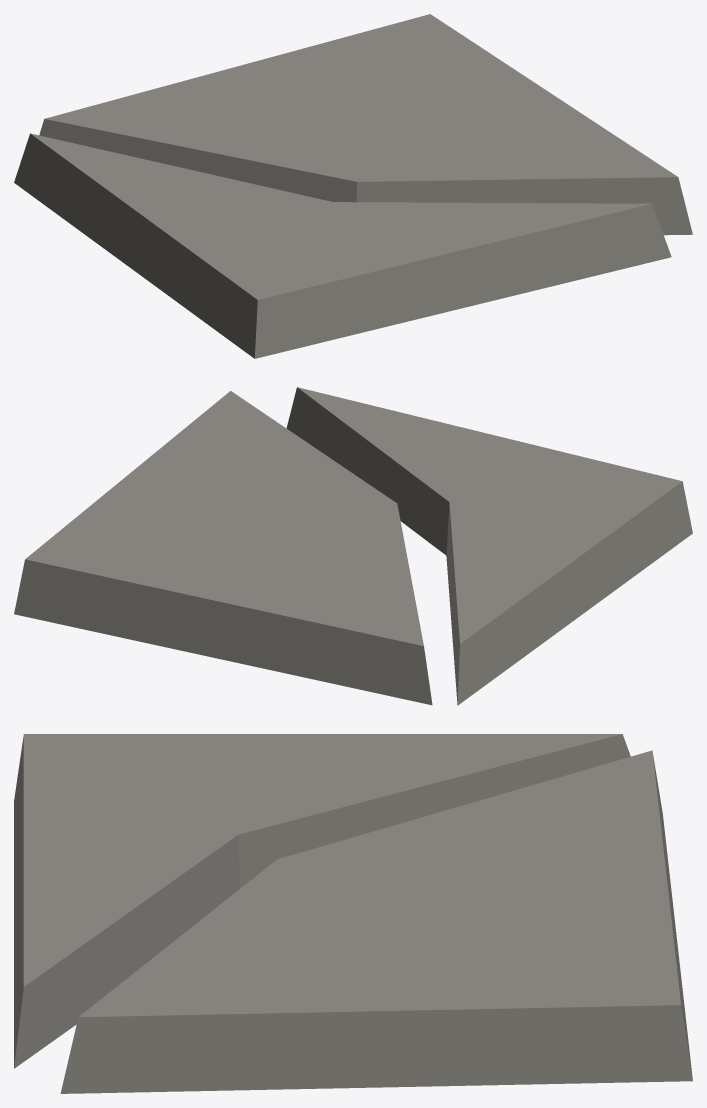
Rendered from Rock_Tile_crk_m_07.fbx.
The picture shows the model from 3 angles, top to bottom: view 1: azimuth 30°, elevation 25°; view 2: azimuth 150°, elevation 25°; view 3: azimuth 270°, elevation 25°; orthographic projection. The views are drawn at different scales.
Visible parts, largest first — view 1: Rock_Tile_crk_m_07; view 2: Rock_Tile_crk_m_07; view 3: Rock_Tile_crk_m_07.
Part boxes in pixels (x1,y1,x2,y2): Rock_Tile_crk_m_07: (14, 14, 692, 358); Rock_Tile_crk_m_07: (14, 387, 692, 705); Rock_Tile_crk_m_07: (14, 734, 692, 1093).
Size of the model in its own units: 43.73 by 5 by 42.89.
